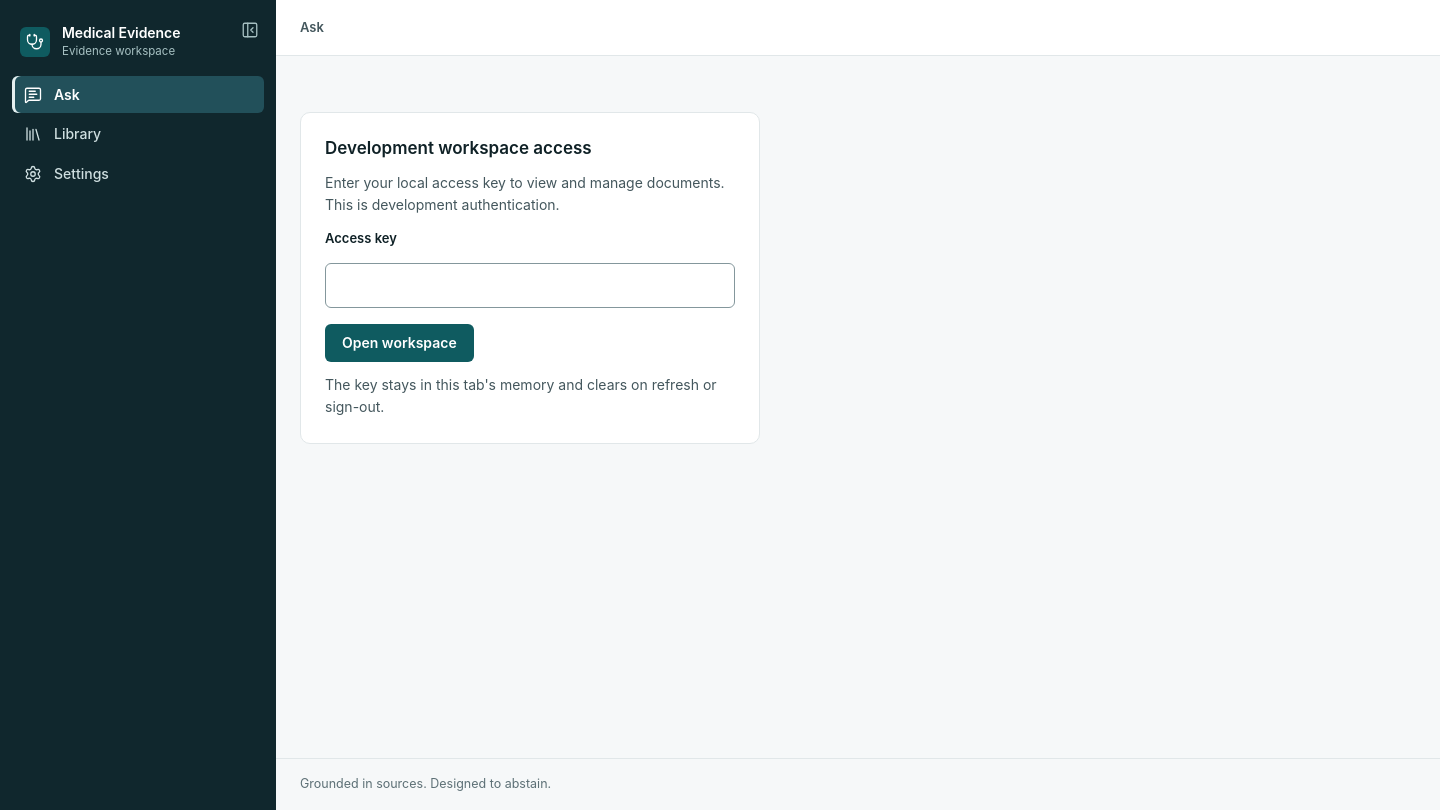
what the rail lists › shows a curator only the tools their permissions cover
Type "test-key" into the password field labelled "Access key" at (530, 285), box [325,263,735,308]
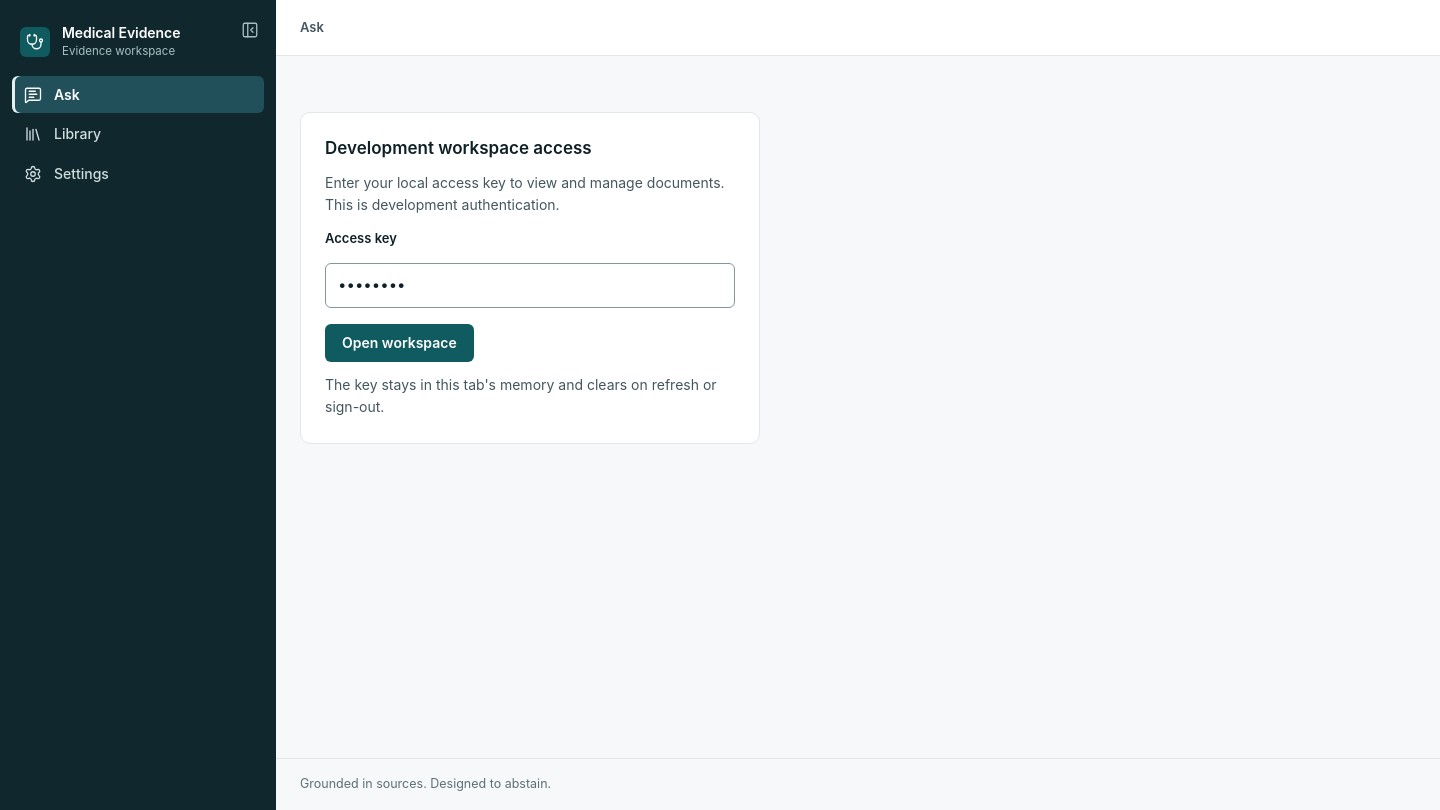
Click the button "Open workspace" at (399, 343), box [325,324,474,362]
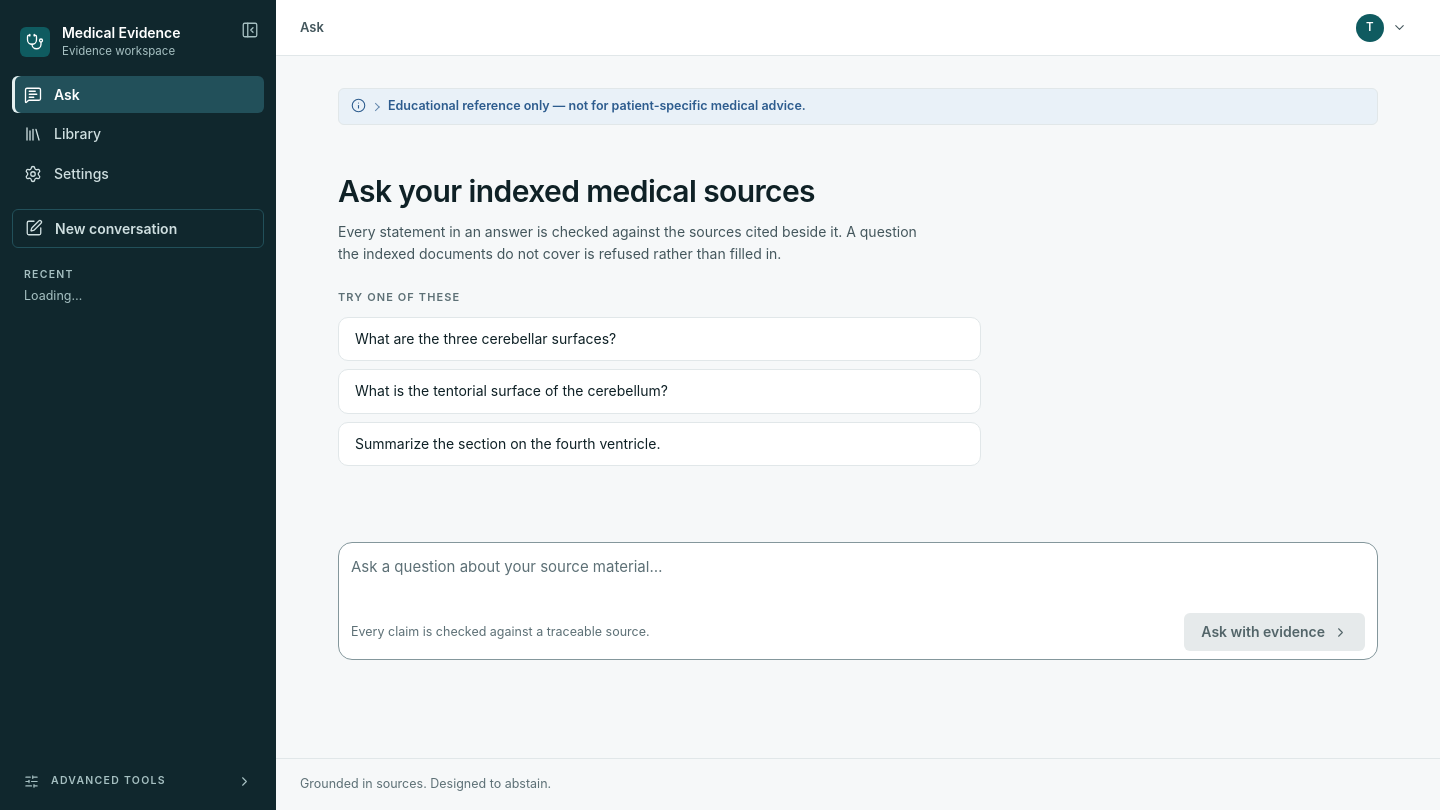
Check: the text box named "Your educational medical question" is shown, box [351,555,1365,605]
Click the button "Advanced tools" at (138, 782), box [12,765,264,798]
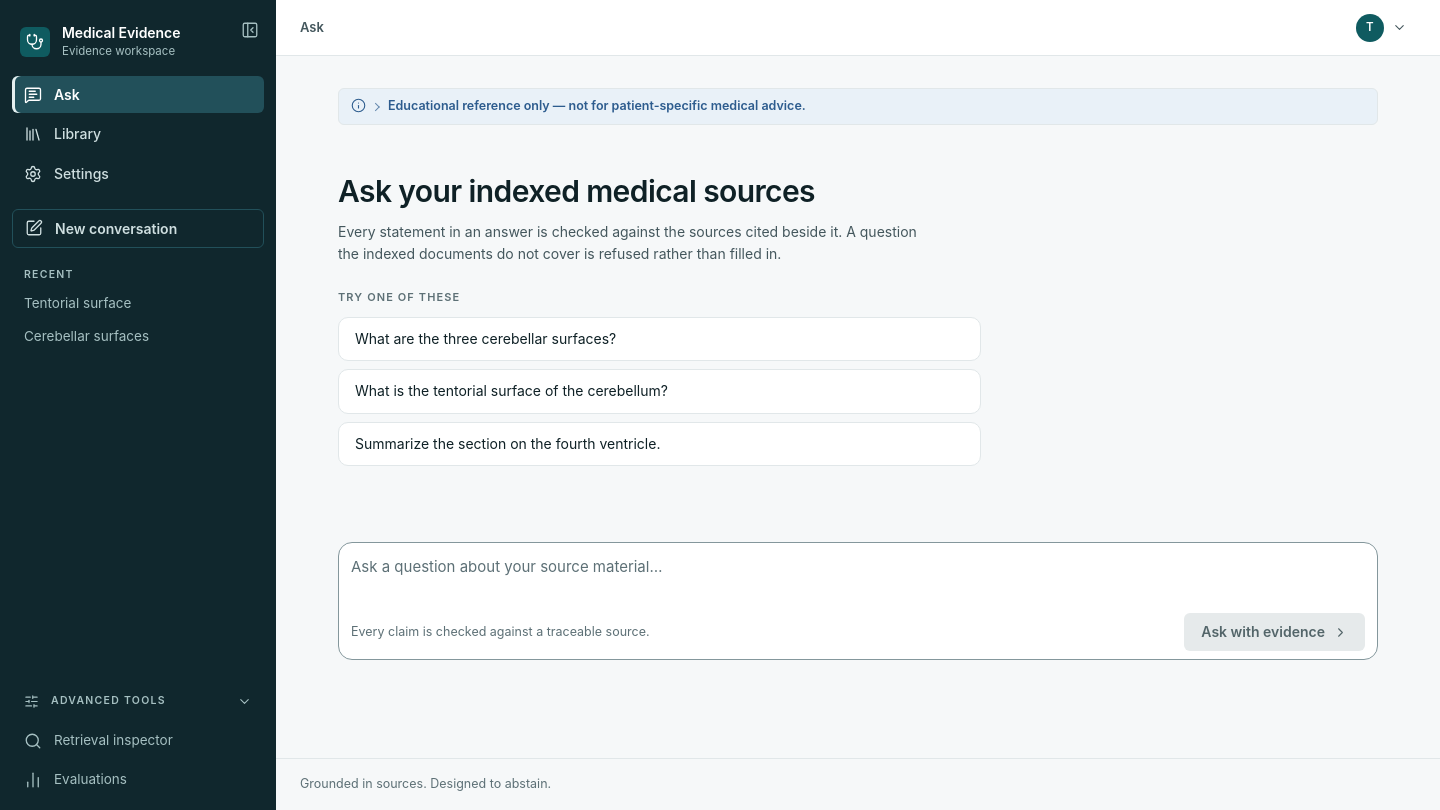
Check: the link "Retrieval inspector" is shown, box [24,732,173,750]
